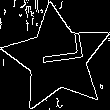L_W: (31, 39, 84, 77)
